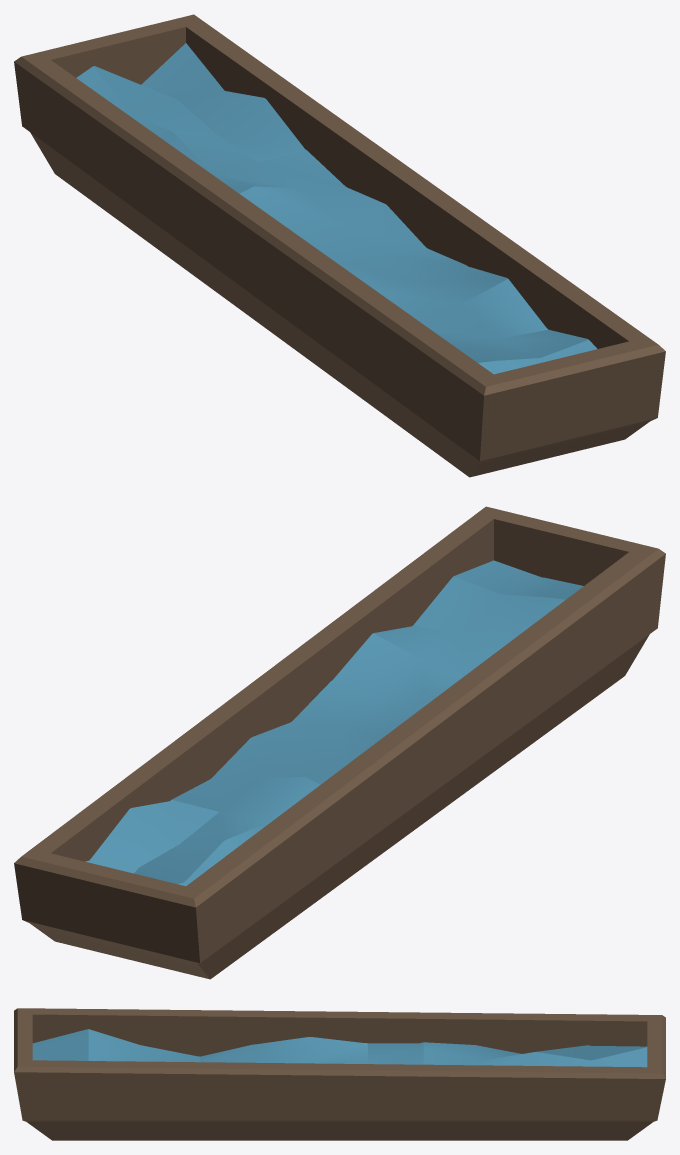
Rendered from waterdish_a002.glb.
The picture shows the model from 3 angles, top to bottom: view 1: azimuth 30°, elevation 25°; view 2: azimuth 150°, elevation 25°; view 3: azimuth 270°, elevation 25°; orthographic projection. The views are drawn at different scales.
Parts seen in each view (by area): view 1: waterdish_a002; view 2: waterdish_a002; view 3: waterdish_a002.
Boxes of the visible parts, box(x1,y1,x2,y2) form: waterdish_a002: box(14, 14, 665, 477); waterdish_a002: box(14, 506, 665, 979); waterdish_a002: box(14, 1008, 665, 1140).
Bounding box in the file's own units: 0.3902 × 0.2277 × 1.75.
1 material, 1 textured.
